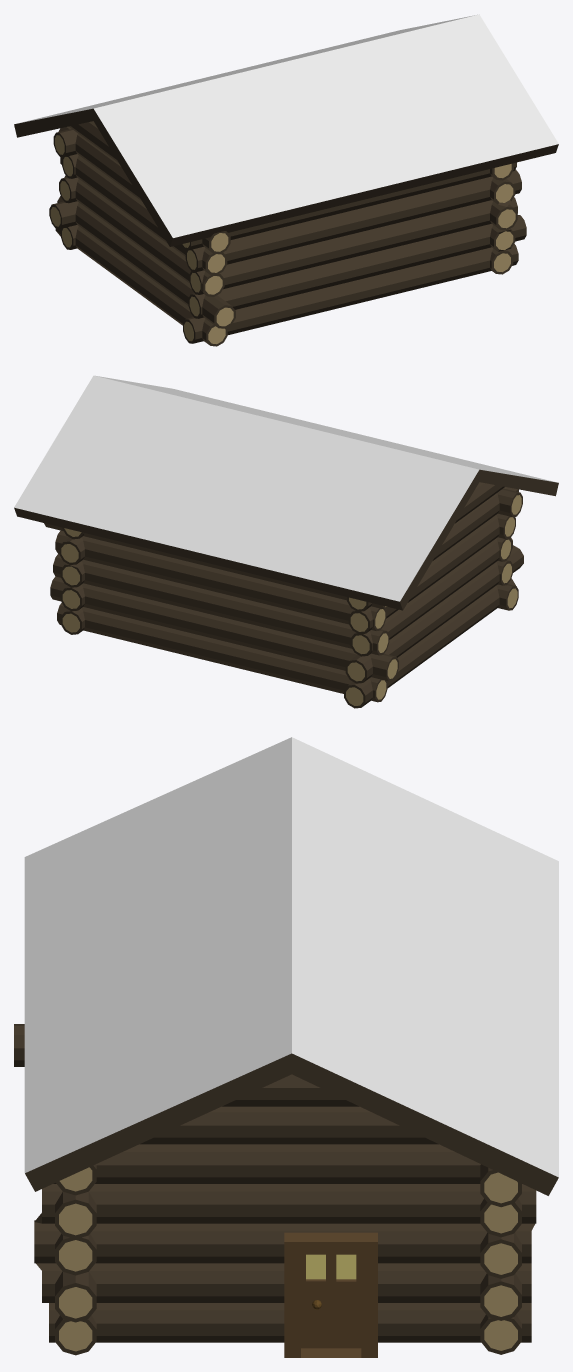
Rendered from LogCabin.fbx.
The picture shows the model from 3 angles, top to bottom: view 1: azimuth 30°, elevation 25°; view 2: azimuth 150°, elevation 25°; view 3: azimuth 270°, elevation 25°; orthographic projection. The views are drawn at different scales.
Visible parts, largest first — view 1: Cabin; view 2: Cabin; view 3: Cabin.
Part boxes in pixels (x1,y1,x2,y2): Cabin: (14, 14, 558, 346); Cabin: (14, 375, 558, 708); Cabin: (14, 737, 558, 1357).
Bounding box in the file's own units: 1599 × 777 × 1164.
